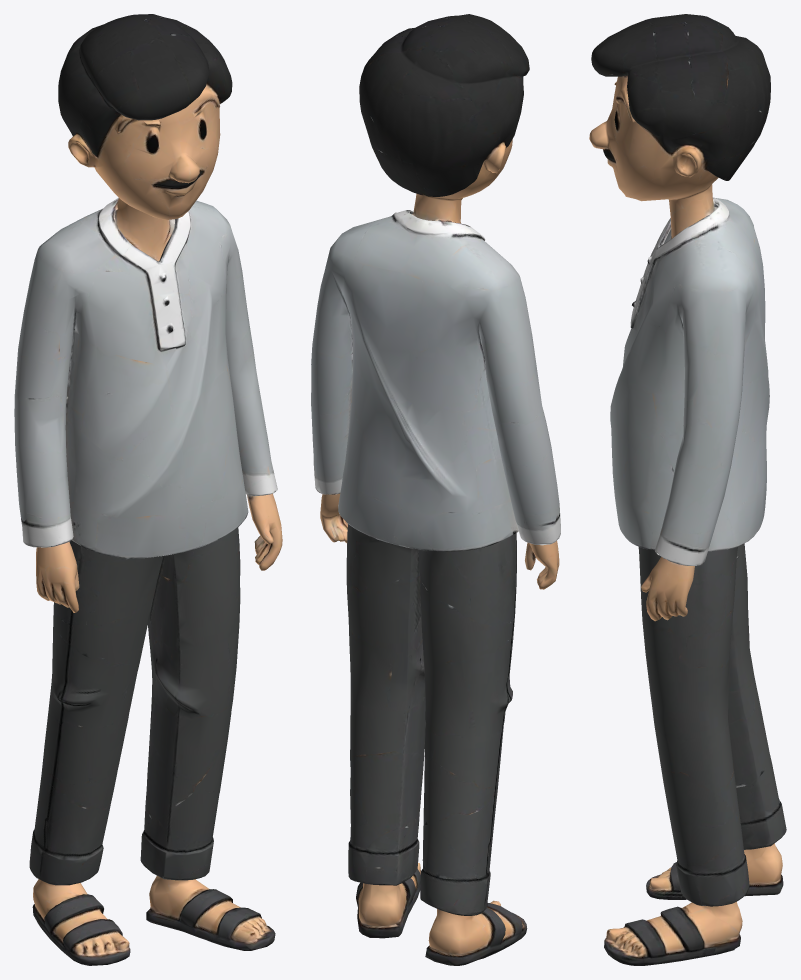
File: gray_kurta.glb
The picture shows the model from 3 angles, left to right: view 1: azimuth 30°, elevation 25°; view 2: azimuth 150°, elevation 25°; view 3: azimuth 270°, elevation 25°; orthographic projection. The views are drawn at different scales.
Size of the model in its own units: 0.5266 by 1.9 by 0.3771.
1 material, 1 textured.
